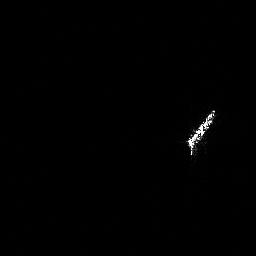ship: (182, 105, 219, 160)
